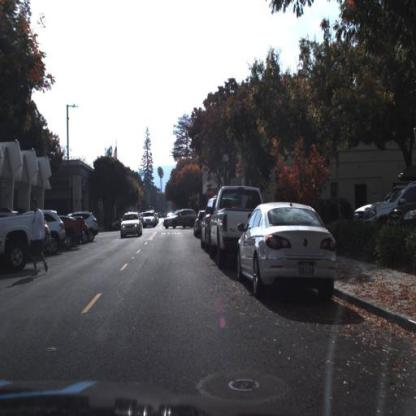car: (233, 192, 338, 310), (1, 208, 47, 279), (347, 175, 416, 221), (205, 183, 239, 271), (202, 195, 219, 256), (48, 208, 69, 257), (120, 206, 144, 243), (163, 208, 196, 233), (66, 212, 88, 247), (59, 216, 83, 248), (85, 209, 101, 244)
pedestrian: (30, 199, 49, 278)
